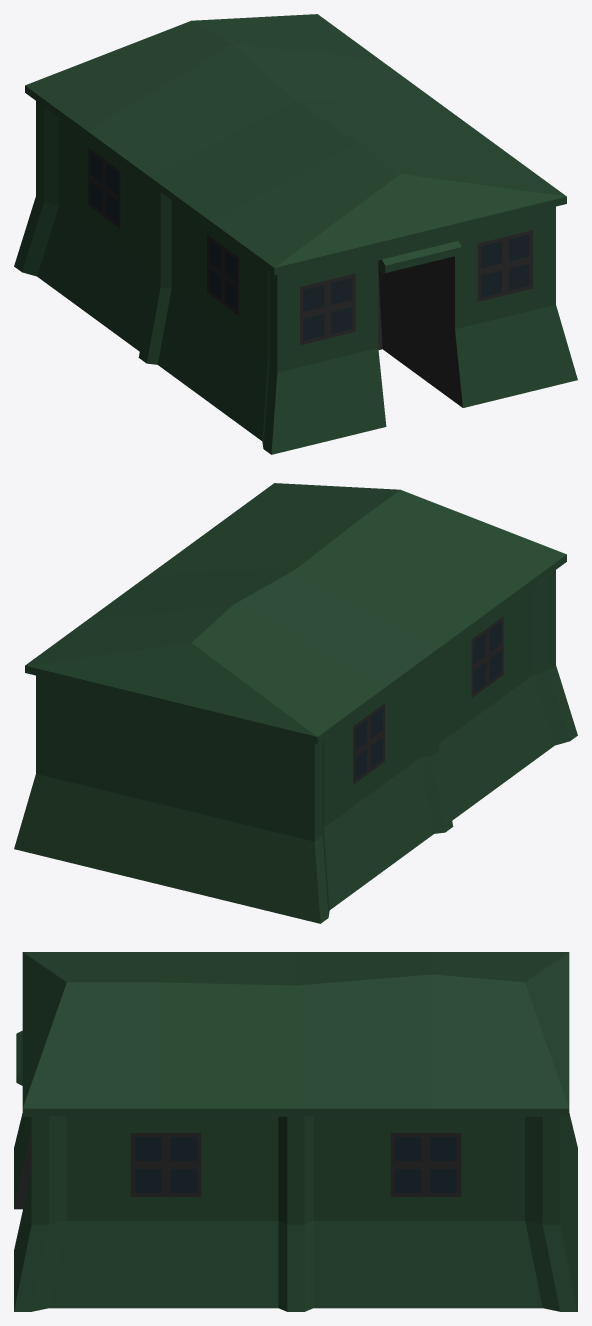
The model's file is military-tent.glb.
The picture shows the model from 3 angles, top to bottom: view 1: azimuth 30°, elevation 25°; view 2: azimuth 150°, elevation 25°; view 3: azimuth 270°, elevation 25°; orthographic projection. The views are drawn at different scales.
Parts seen in each view (by area): view 1: military-tent; view 2: military-tent; view 3: military-tent.
Part boxes in pixels (x1,y1,x2,y2): military-tent: (14, 14, 577, 454); military-tent: (14, 483, 577, 923); military-tent: (14, 952, 577, 1311).
Bounding box in the file's own units: 4.4 × 3.2 × 6.4.
1 material, 1 textured.
